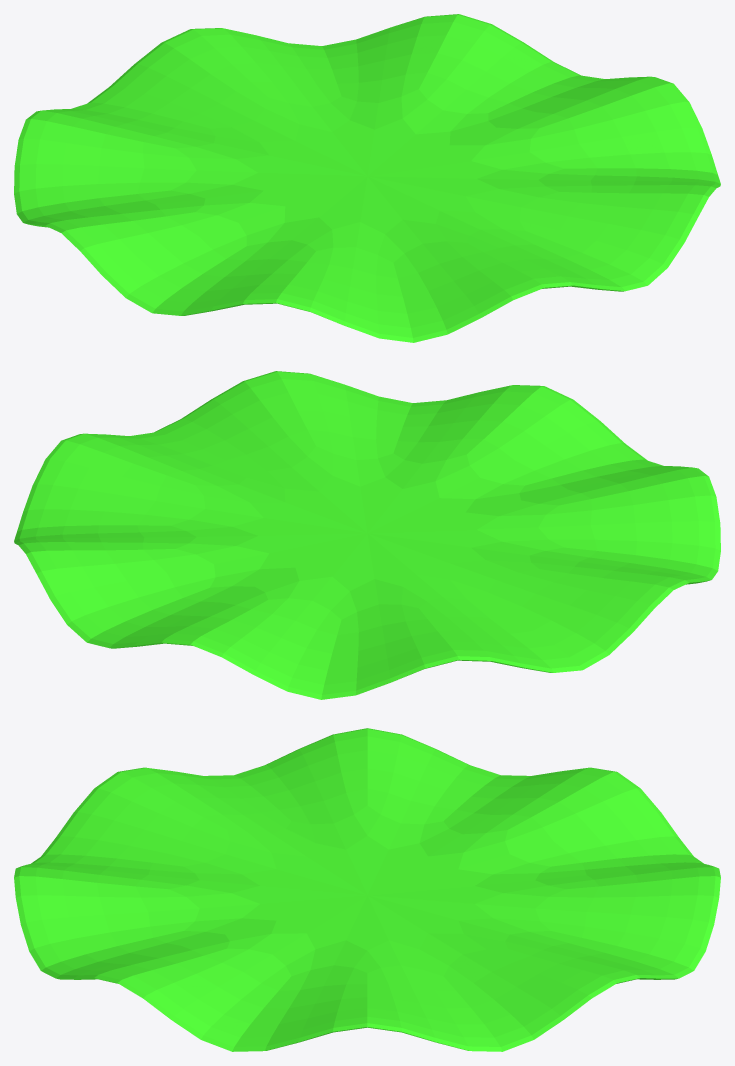
The model's file is salad .fbx.
3 renders of one model, top to bottom at view 1: azimuth 30°, elevation 25°; view 2: azimuth 150°, elevation 25°; view 3: azimuth 270°, elevation 25°, orthographic.
Visible parts, largest first — view 1: Cylinder.071; view 2: Cylinder.071; view 3: Cylinder.071.
Boxes of the visible parts, x1,y1,x2,y2 form: Cylinder.071: [14, 14, 720, 342]; Cylinder.071: [14, 371, 720, 699]; Cylinder.071: [14, 728, 720, 1051].
Bounding box in the file's own units: 22.48 × 1.42 × 22.48.
